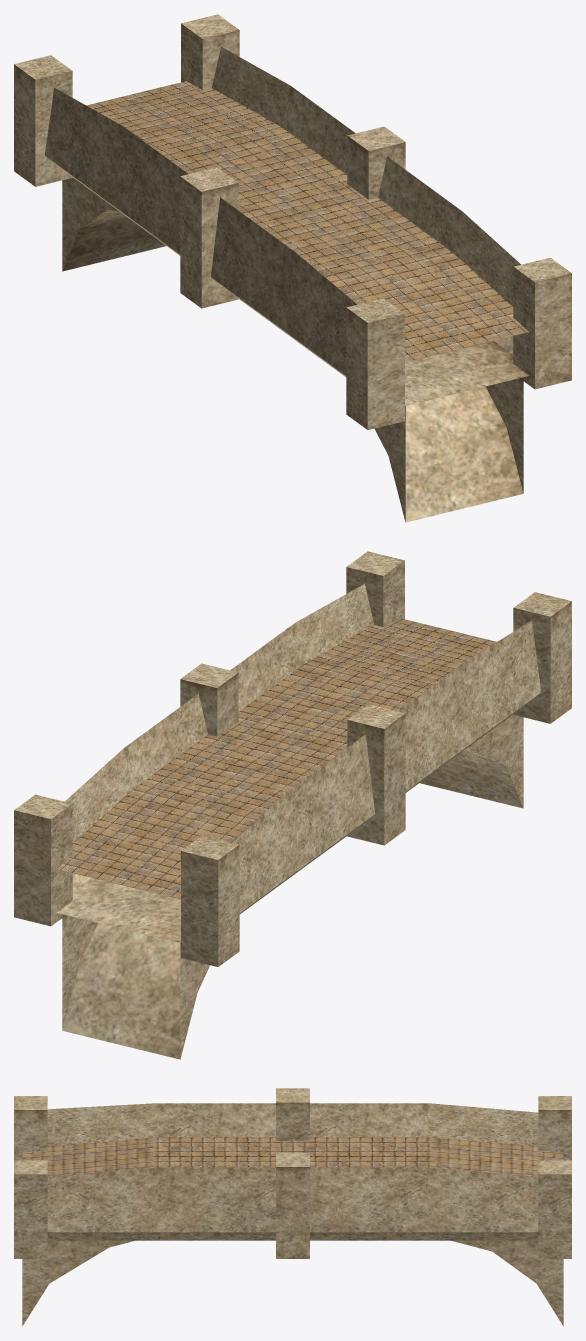
File: thm_tato_imprv_bridge_sml_s02_l2.fbx
The picture shows the model from 3 angles, top to bottom: view 1: azimuth 30°, elevation 25°; view 2: azimuth 150°, elevation 25°; view 3: azimuth 270°, elevation 25°; orthographic projection. The views are drawn at different scales.
Visible parts, largest first — view 1: mesh_node; view 2: mesh_node; view 3: mesh_node.
Boxes of the visible parts, x1,y1,x2,y2 form: mesh_node: (14,14,571,522); mesh_node: (14,551,571,1059); mesh_node: (14,1088,571,1326).
Bounding box in the file's own units: 5.5 × 5.75 × 16.5.
Materials: 1 (1 with a texture image).
